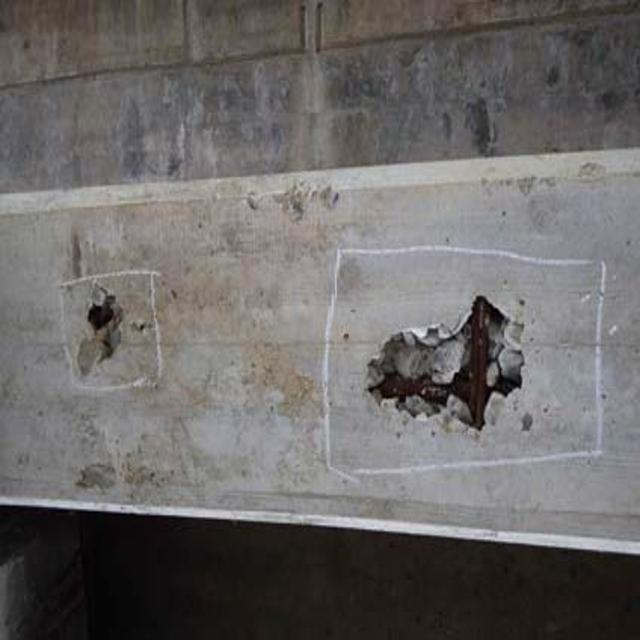spalling: (357, 287, 539, 447), (61, 280, 146, 390)
